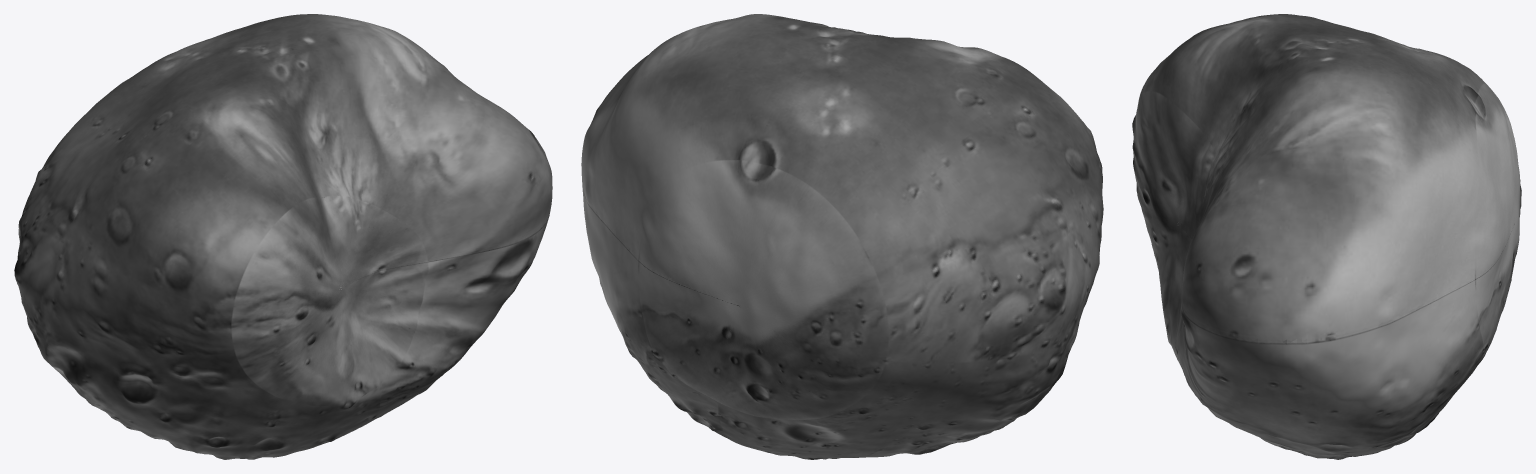
The model's file is deimos.fbx.fbx.
The picture shows the model from 3 angles, left to right: view 1: azimuth 30°, elevation 25°; view 2: azimuth 150°, elevation 25°; view 3: azimuth 270°, elevation 25°; orthographic projection. The views are drawn at different scales.
Visible parts, largest first — view 1: Deimos; view 2: Deimos; view 3: Deimos.
Part boxes in pixels (bbox=[...]): Deimos: bbox=[14, 14, 552, 459]; Deimos: bbox=[581, 14, 1103, 459]; Deimos: bbox=[1132, 14, 1521, 459].
Bounding box in the file's own units: 1543 × 1226 × 1081.
Materials: 1 (1 with a texture image).
